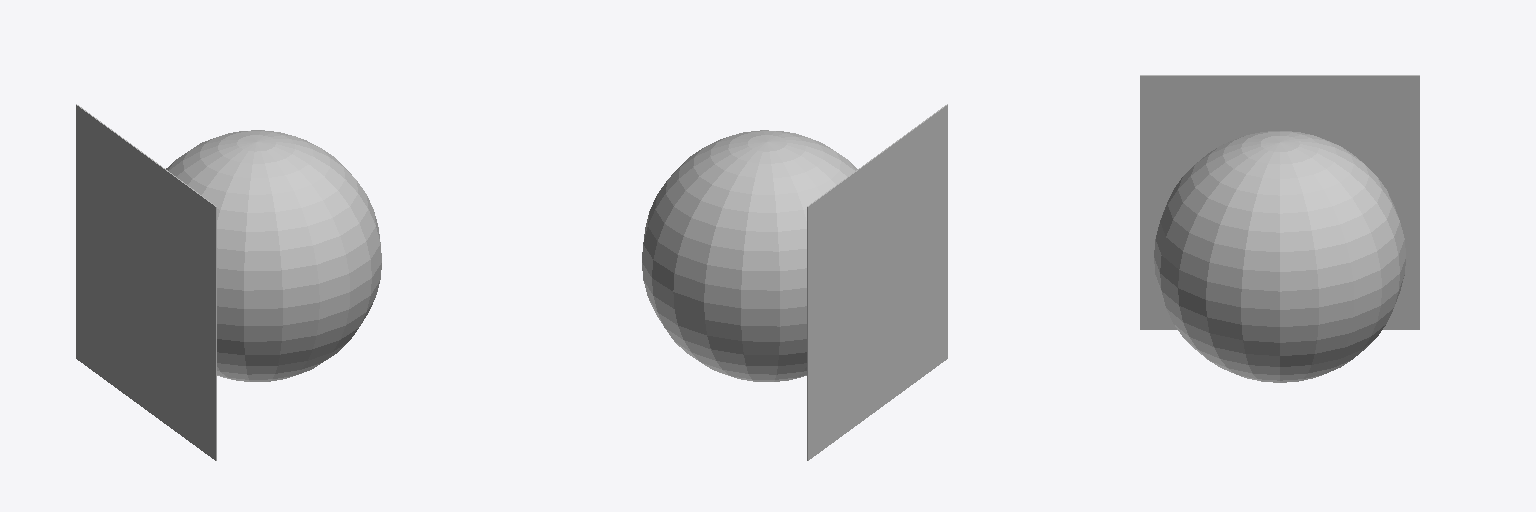
Rendered from globe-with-plane-equator1.obj.
3 renders of one model, left to right at view 1: azimuth 30°, elevation 25°; view 2: azimuth 150°, elevation 25°; view 3: azimuth 270°, elevation 25°, orthographic.
Parts seen in each view (by area): view 1: polySurface1; view 2: polySurface1; view 3: polySurface1.
Boxes of the visible parts, x1,y1,x2,y2 form: polySurface1: [76, 104, 381, 460]; polySurface1: [642, 104, 947, 460]; polySurface1: [1140, 75, 1419, 382].
Size of the model in its own units: 18.13 by 20 by 20.